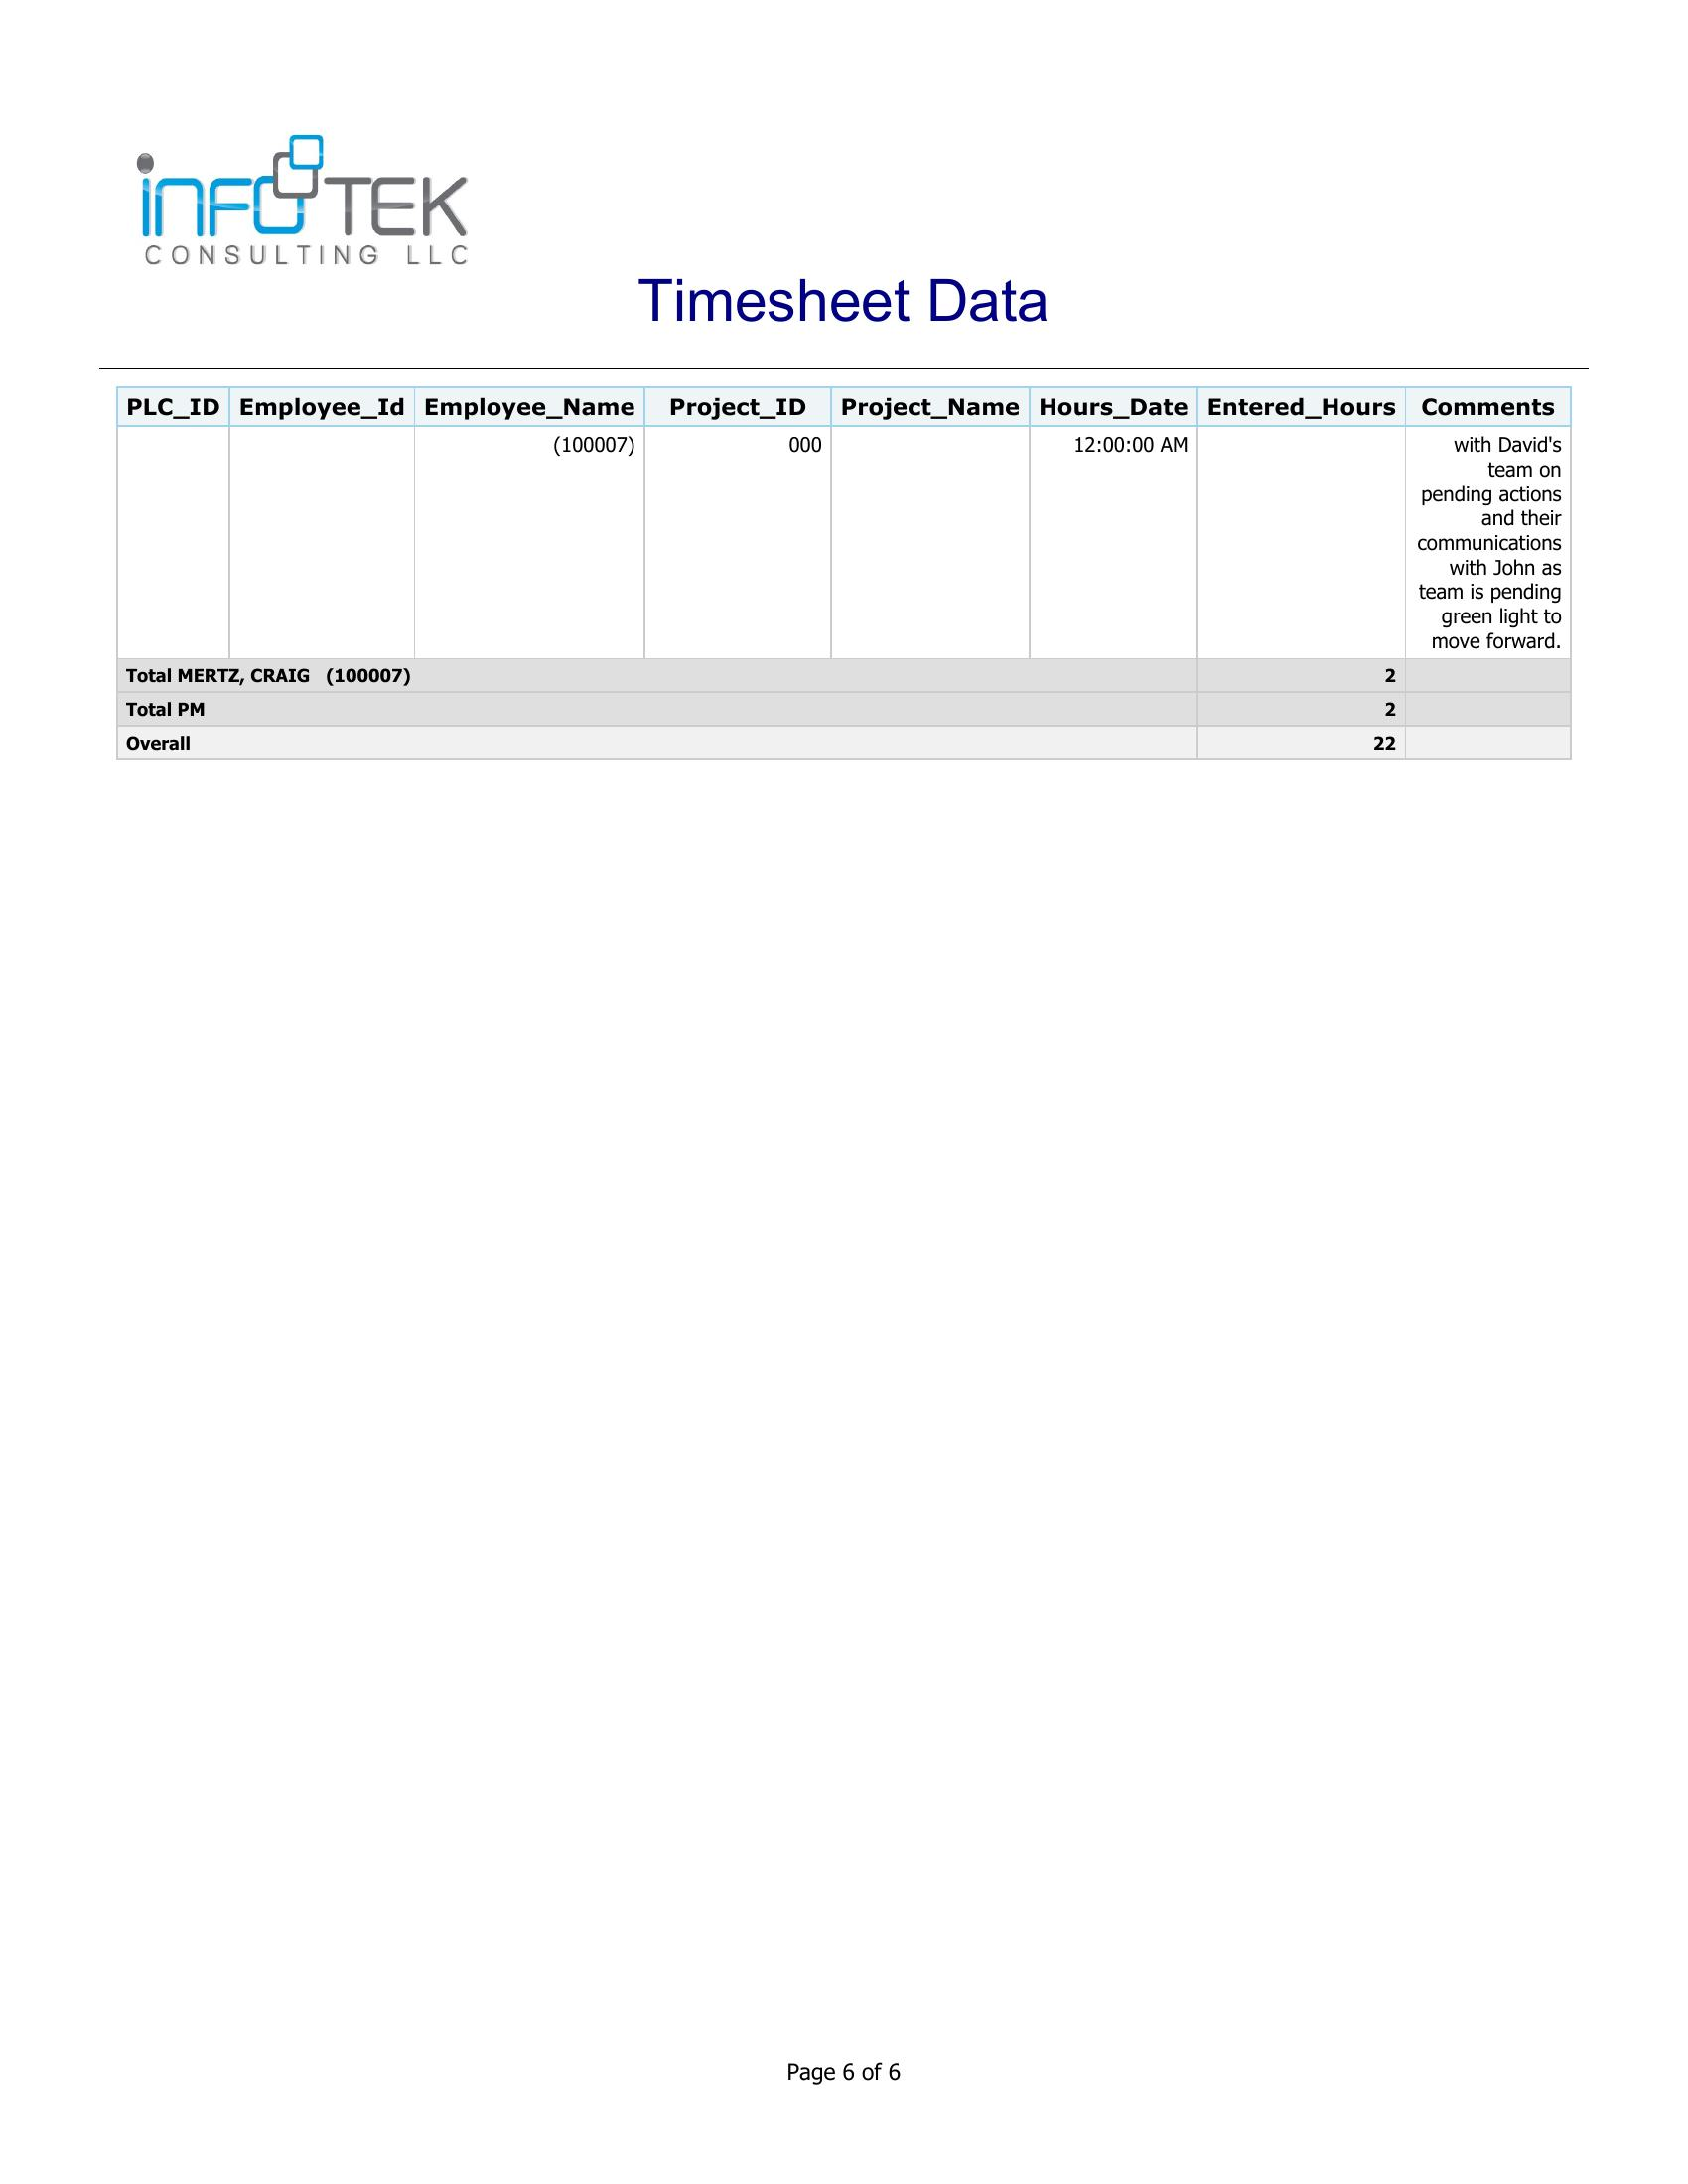table: (108, 374, 1585, 663)
